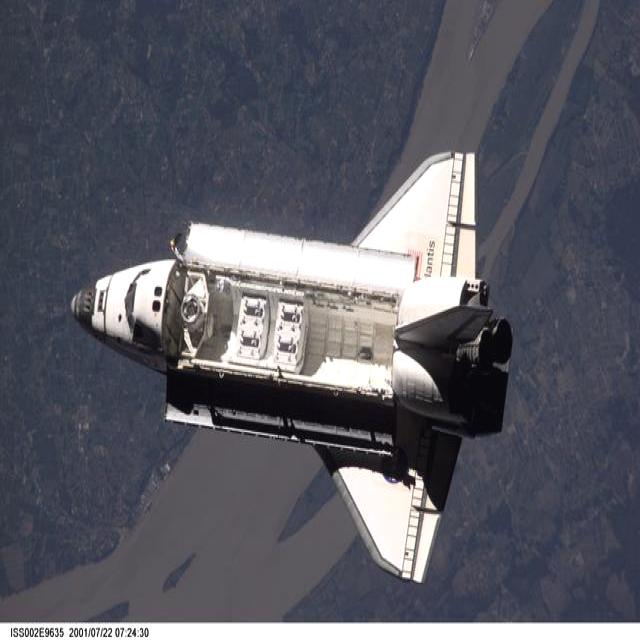satellite: (72, 154, 511, 581)
